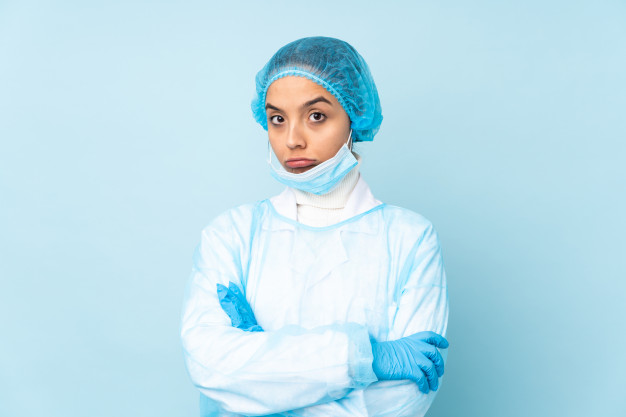mask_weared_incorrect: (260, 76, 354, 197)
